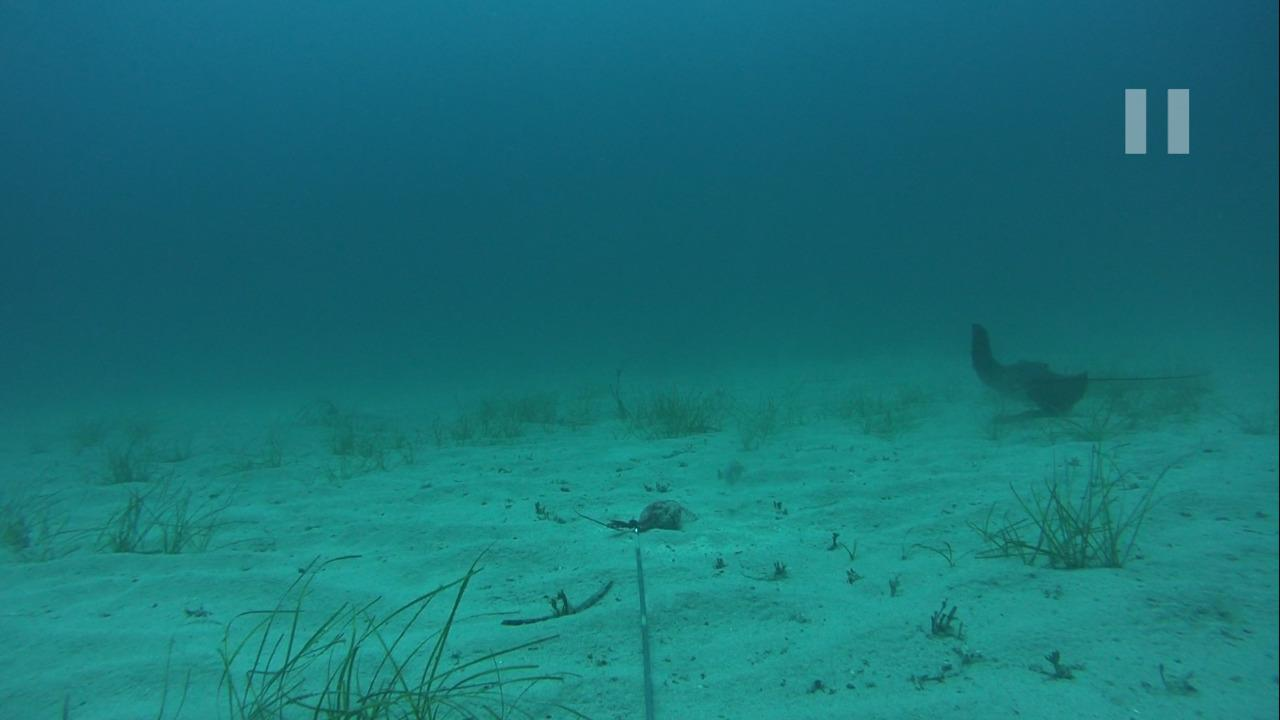myliobatis: (953, 319, 1120, 419)
raor: (708, 451, 758, 492)
